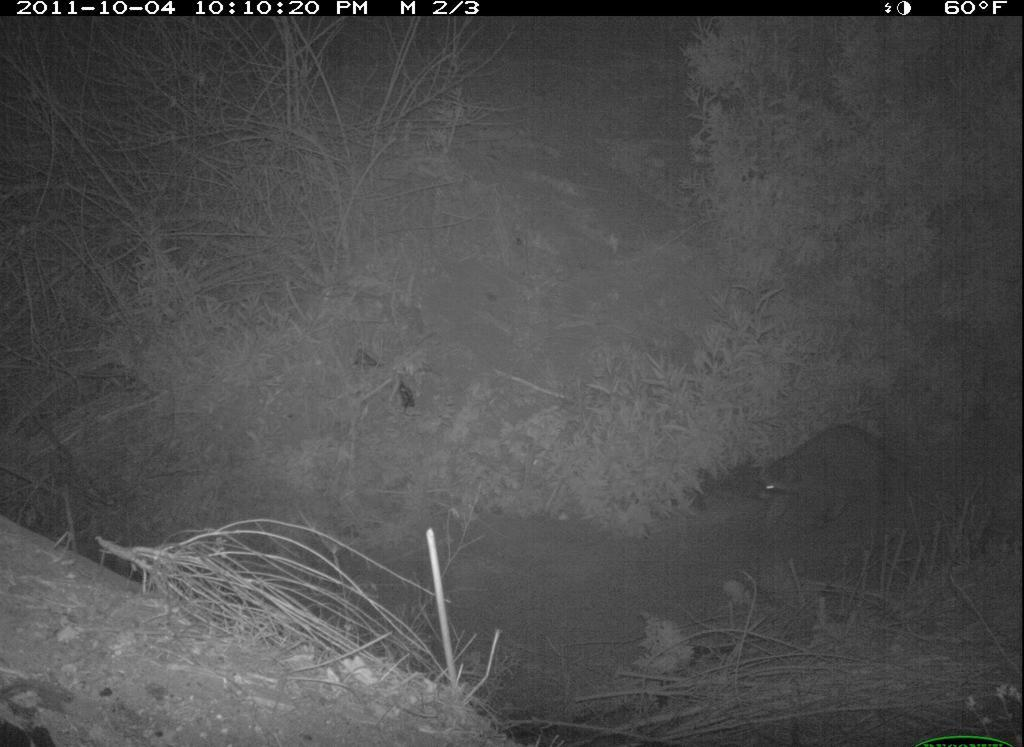raccoon: (749, 419, 905, 538)
